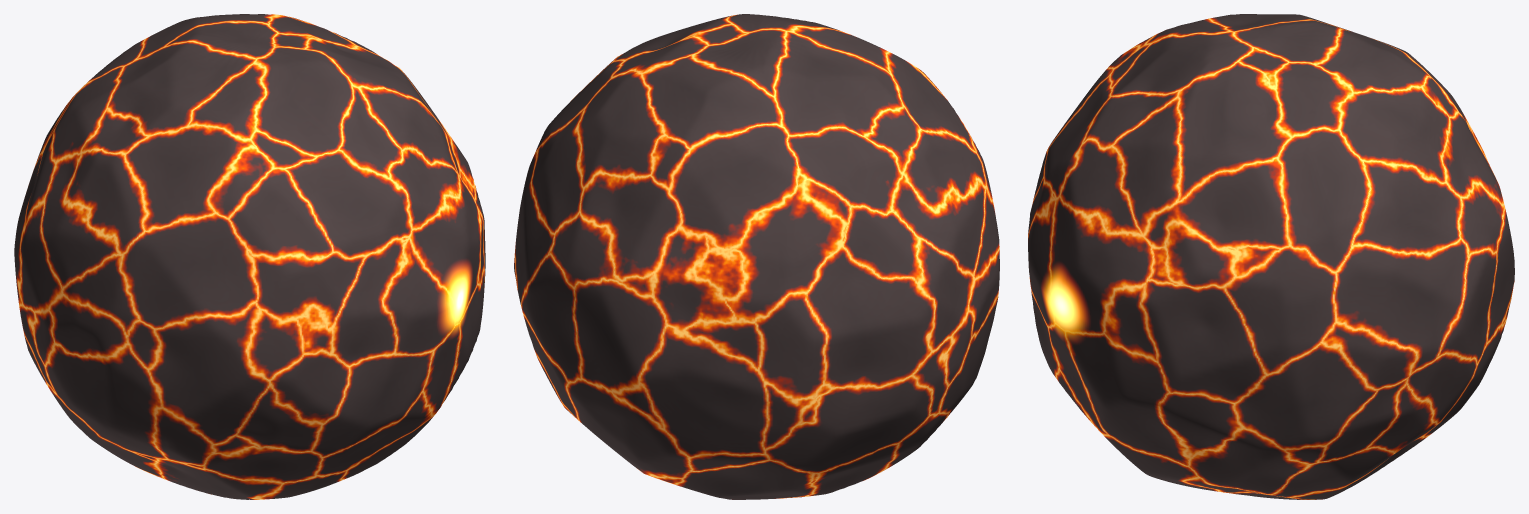
The model's file is lava-ball.glb.
3 views of the same model, side by side, from view 1: azimuth 30°, elevation 25°; view 2: azimuth 150°, elevation 25°; view 3: azimuth 270°, elevation 25° (orthographic). The views are drawn at different scales.
Parts seen in each view (by area): view 1: Sphere; view 2: Sphere; view 3: Sphere.
Boxes of the visible parts, x1=… form: Sphere: x1=14, y1=14, x2=485, y2=499; Sphere: x1=514, y1=14, x2=999, y2=499; Sphere: x1=1028, y1=14, x2=1514, y2=499.
Size of what is drawn, in the model's own units: 2 by 1.98 by 1.99.
1 material, 1 textured.
